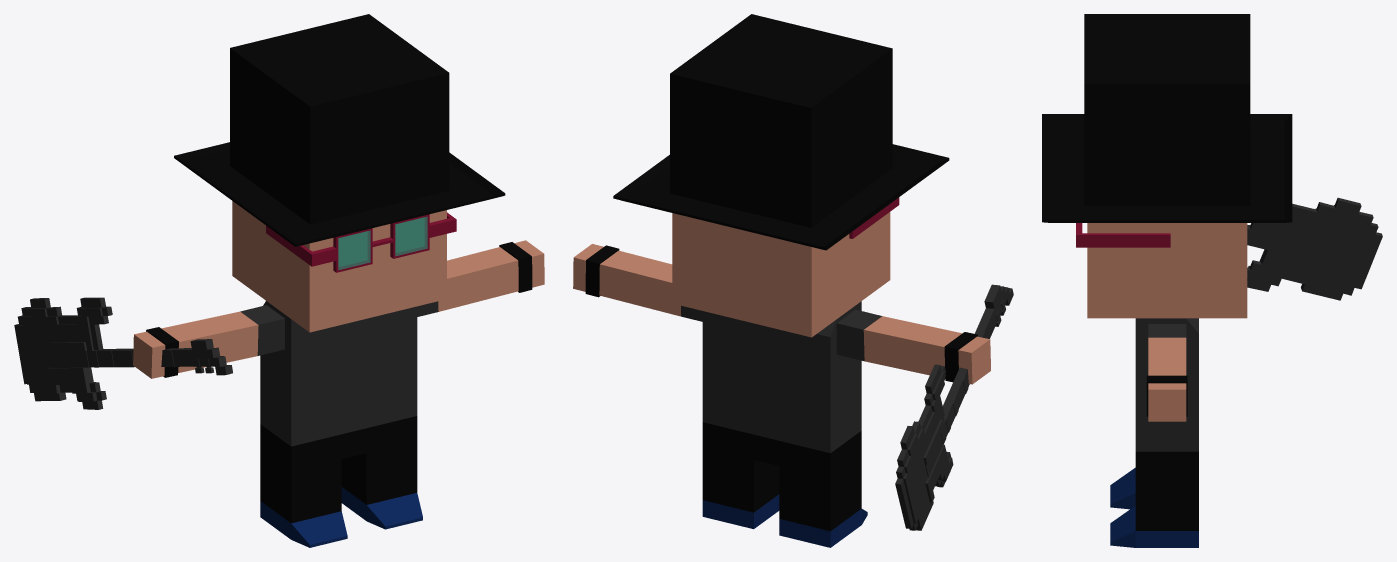
Rendered from player1withguitar2.FBX.
The picture shows the model from 3 angles, left to right: view 1: azimuth 30°, elevation 25°; view 2: azimuth 150°, elevation 25°; view 3: azimuth 270°, elevation 25°; orthographic projection. The views are drawn at different scales.
Visible parts, largest first — view 1: guitar; view 2: guitar; view 3: guitar.
Boxes of the visible parts, x1,y1,x2,y2 form: guitar: (14,14,544,547); guitar: (573,14,1013,547); guitar: (1042,14,1382,547).
Bounding box in the file's own units: 65.46 × 67.79 × 44.71.
